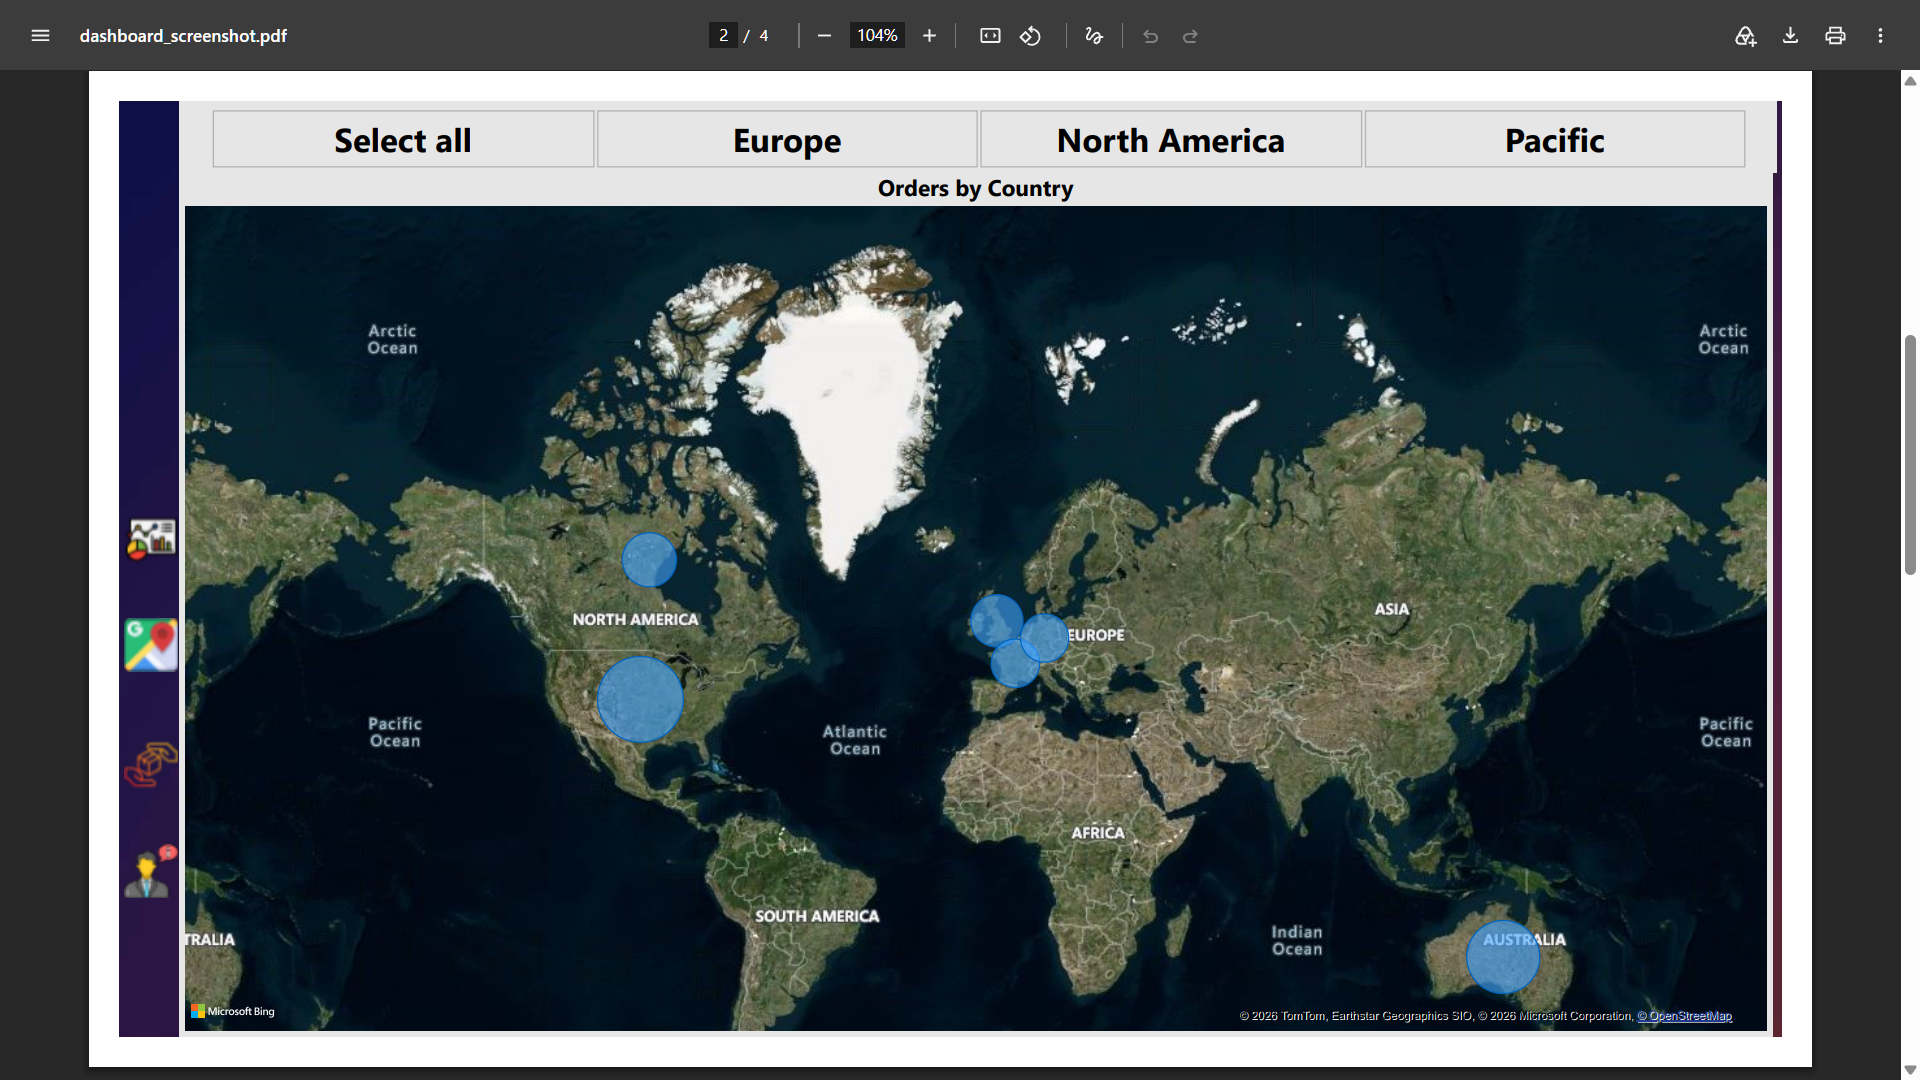

The dashboard page shown, as its layout file describes it:
{"tool":"powerbi","page":{"name":"Map","canvas":[1280,720],"ordinal":1},"visuals":[{"type":"map","title":"Orders by Country","fields":{"Category":["Territory Lookup.Country"],"Size":["Table Measure.Total Orders"]},"box":[46.2,53.8,1226.2,666.2],"z":0},{"type":"shape","title":"Left Nav Bar","box":[0,0,48,720.3],"z":1000},{"type":"actionButton","box":[0,560,100,65],"z":1000,"group":"g1"},{"type":"actionButton","box":[0,483.3,100,52.5],"z":1500,"group":"g1"},{"type":"slicer","fields":{"Values":["Territory Lookup.Territory Hierarchy.Continent"]},"box":[46.2,0,1230,55],"z":2000},{"type":"actionButton","box":[0,392.1,100,52.5],"z":2000,"group":"g1"},{"type":"group","id":"g1","title":"Navigation","box":[0,298.8,100,326.2],"z":2001},{"type":"actionButton","box":[5,7.5,82.5,40],"z":2002},{"type":"actionButton","box":[0,298.8,100,76.2],"z":4000,"group":"g1"}]}

Visuals, with their boxes on the page's 1280x720 design canvas (x1, y1, x2, y2). These are canvas units, not pixel positions in the 1920x1080 screenshot, which may show the page scaled, cropped or inside an application window:
"Orders by Country" map: rect(46, 54, 1272, 720)
"Left Nav Bar" shape: rect(0, 0, 48, 720)
actionButton: rect(0, 560, 100, 625)
actionButton: rect(0, 483, 100, 536)
slicer - Territory Lookup.Territory Hierarchy.Continent: rect(46, 0, 1276, 55)
actionButton: rect(0, 392, 100, 445)
"Navigation" group: rect(0, 299, 100, 625)
actionButton: rect(5, 8, 88, 48)
actionButton: rect(0, 299, 100, 375)
